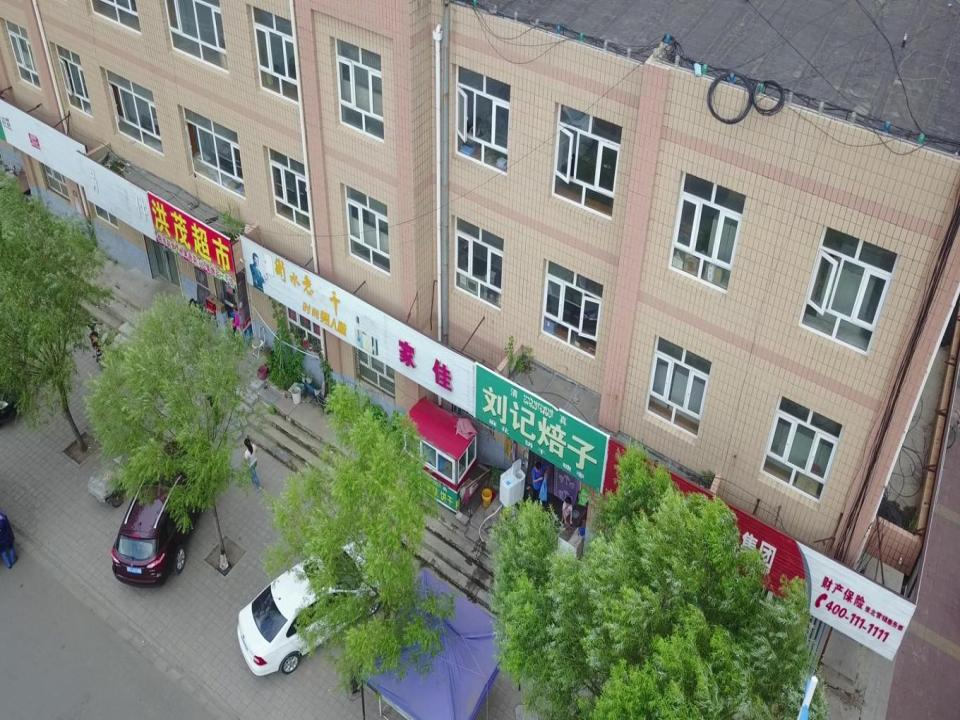car: (237, 538, 394, 676), (110, 432, 217, 590)
